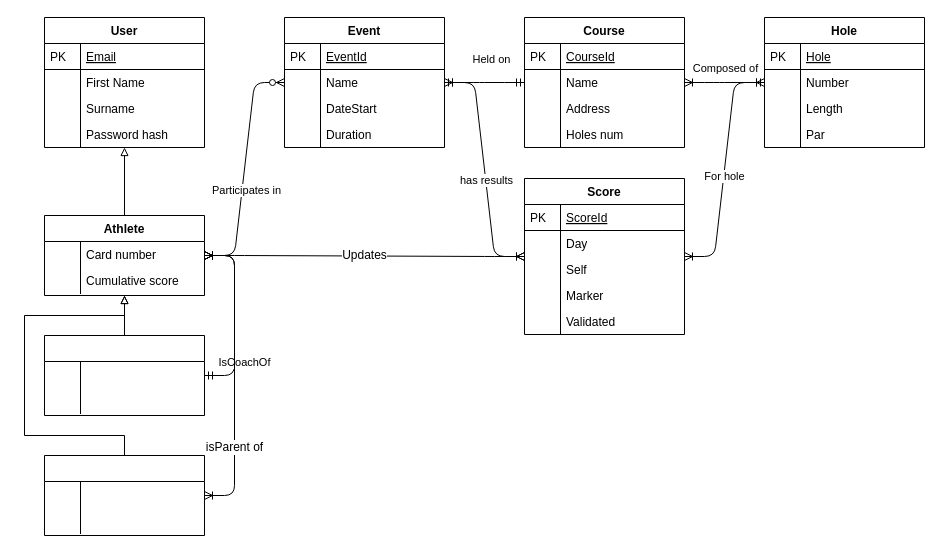
This 942x553 diagram has some shape labels left out. The shapes that lost their labels are listed below. From the top down, each one's centre as x and y in pixels, then its label:
At point 124,375: "Coach".
At point 124,495: "Parent".
